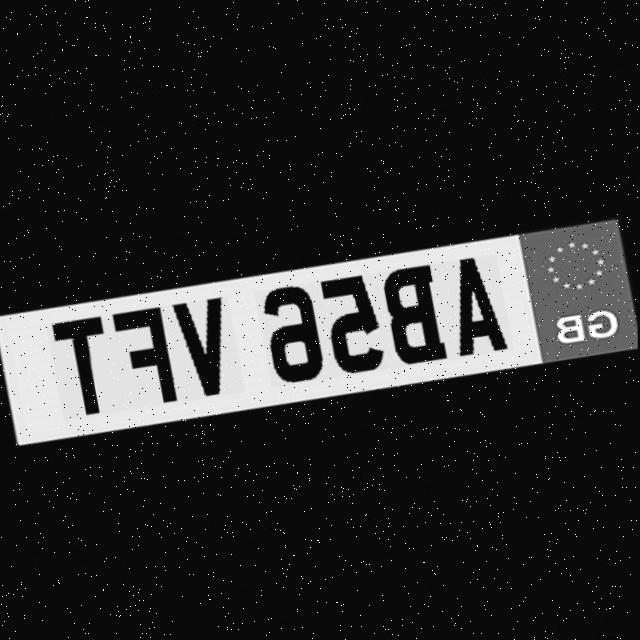license-plates: (0, 220, 638, 444)
